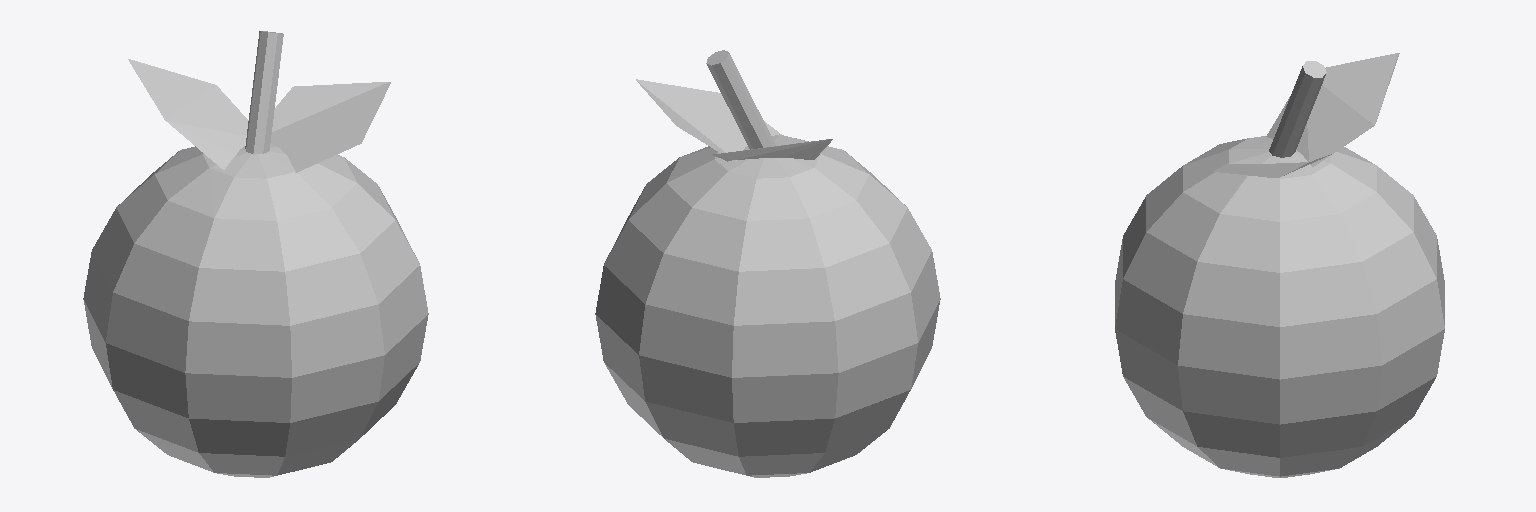
Rendered from berry.obj.
The picture shows the model from 3 angles: view 1: azimuth 30°, elevation 25°; view 2: azimuth 150°, elevation 25°; view 3: azimuth 270°, elevation 25°; orthographic projection.
Parts seen in each view (by area): view 1: Sphere; view 2: Sphere; view 3: Sphere.
Part boxes in pixels (left/top/right/bottom): Sphere: left=83, top=31, right=428, bottom=477; Sphere: left=595, top=50, right=940, bottom=477; Sphere: left=1115, top=53, right=1444, bottom=477.
Size of the model in its own units: 0.4235 by 0.5586 by 0.4028.